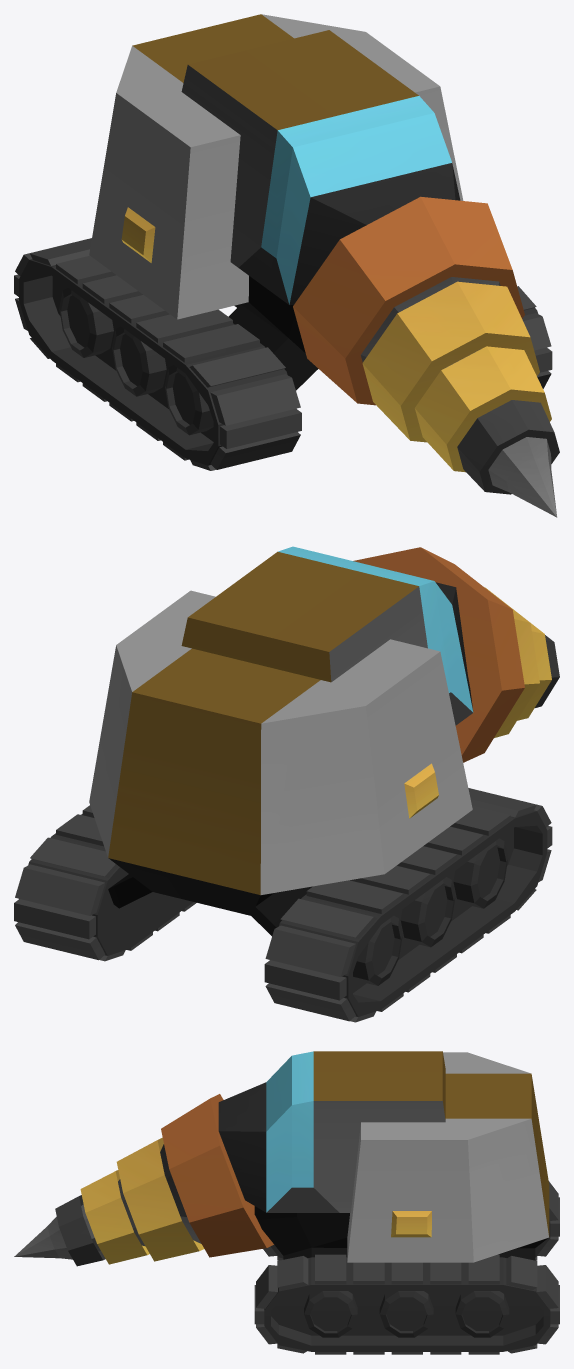
File: Drone_Drill.obj
3 renders of one model, top to bottom at view 1: azimuth 30°, elevation 25°; view 2: azimuth 150°, elevation 25°; view 3: azimuth 270°, elevation 25°, orthographic. The views are drawn at different scales.
Visible parts, largest first — view 1: Drone_Drill; view 2: Drone_Drill; view 3: Drone_Drill.
Part boxes in pixels (left/top/right/bottom): Drone_Drill: left=14, top=14, right=559, bottom=517; Drone_Drill: left=14, top=546, right=559, bottom=1022; Drone_Drill: left=14, top=1051, right=559, bottom=1354.
Size of the model in its own units: 5.04 by 4.52 by 10.1.
